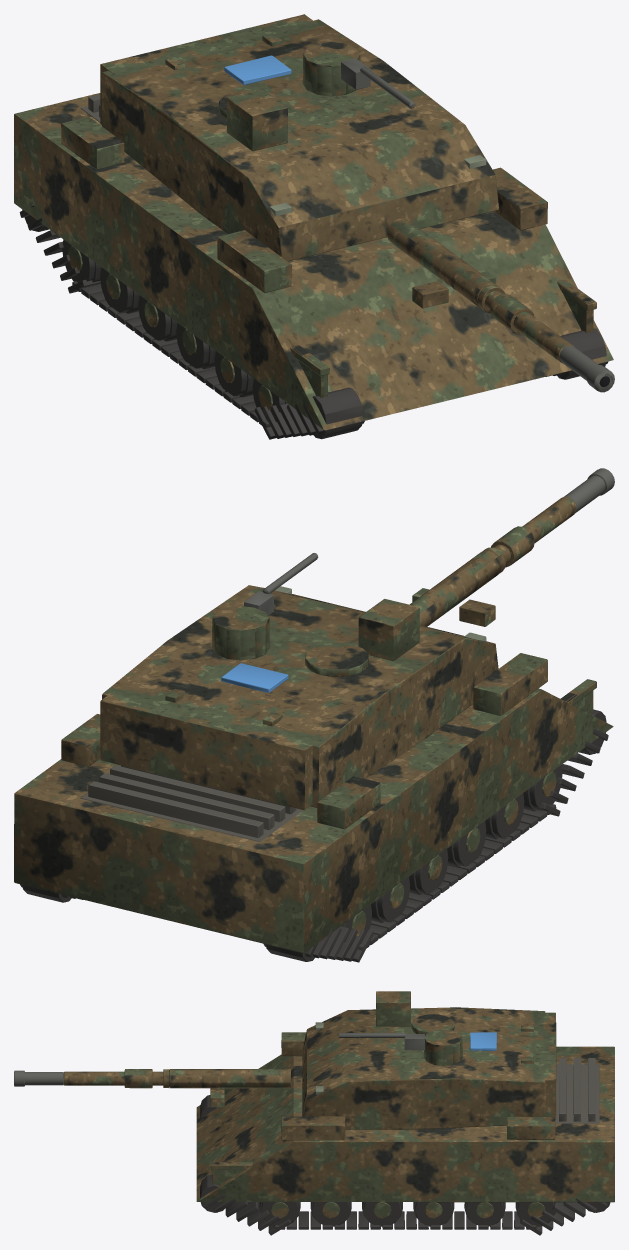
Rendered from mbt_e4_fr_leclerc_LOD1.glb.
3 views of the same model, one above another, from view 1: azimuth 30°, elevation 25°; view 2: azimuth 150°, elevation 25°; view 3: azimuth 270°, elevation 25° (orthographic). The views are drawn at different scales.
Parts seen in each view (by area): view 1: mbt_e4_fr_leclerc_LOD1_body, mbt_e4_fr_leclerc_LOD1_track, mbt_e4_fr_leclerc_LOD1_gun, mbt_e4_fr_leclerc_LOD1_team; view 2: mbt_e4_fr_leclerc_LOD1_body, mbt_e4_fr_leclerc_LOD1_track, mbt_e4_fr_leclerc_LOD1_deck, mbt_e4_fr_leclerc_LOD1_gun, mbt_e4_fr_leclerc_LOD1_team; view 3: mbt_e4_fr_leclerc_LOD1_body, mbt_e4_fr_leclerc_LOD1_track, mbt_e4_fr_leclerc_LOD1_deck, mbt_e4_fr_leclerc_LOD1_gun, mbt_e4_fr_leclerc_LOD1_team.
Part boxes in pixels (x1=…): mbt_e4_fr_leclerc_LOD1_body: x1=14, y1=14, x2=613, y2=430; mbt_e4_fr_leclerc_LOD1_track: x1=19, y1=205, x2=608, y2=439; mbt_e4_fr_leclerc_LOD1_gun: x1=341, y1=58, x2=614, y2=392; mbt_e4_fr_leclerc_LOD1_team: x1=224, y1=55, x2=291, y2=85; mbt_e4_fr_leclerc_LOD1_body: x1=14, y1=496, x2=613, y2=953; mbt_e4_fr_leclerc_LOD1_track: x1=20, y1=709, x2=608, y2=962; mbt_e4_fr_leclerc_LOD1_deck: x1=80, y1=765, x2=303, y2=841; mbt_e4_fr_leclerc_LOD1_gun: x1=244, y1=468, x2=614, y2=615; mbt_e4_fr_leclerc_LOD1_team: x1=221, y1=663, x2=288, y2=692; mbt_e4_fr_leclerc_LOD1_body: x1=64, y1=991, x2=614, y2=1218; mbt_e4_fr_leclerc_LOD1_track: x1=200, y1=1095, x2=610, y2=1235; mbt_e4_fr_leclerc_LOD1_deck: x1=555, y1=1058, x2=599, y2=1123; mbt_e4_fr_leclerc_LOD1_gun: x1=14, y1=1033, x2=424, y2=1086; mbt_e4_fr_leclerc_LOD1_team: x1=470, y1=1032, x2=496, y2=1050.
Size of the model in its own units: 3.71 by 3.09 by 9.87.
7 materials, 1 textured.
